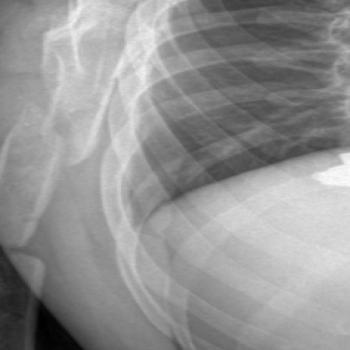Fracture: (17, 98, 88, 174)
